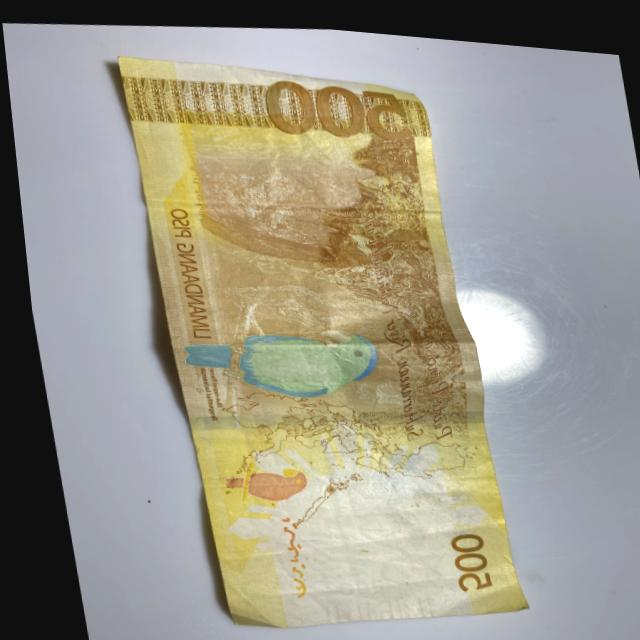500_big_parrot: (167, 308, 371, 403)
500_parrot_watermark: (207, 454, 300, 506)
value_watermark: (321, 568, 376, 595)
